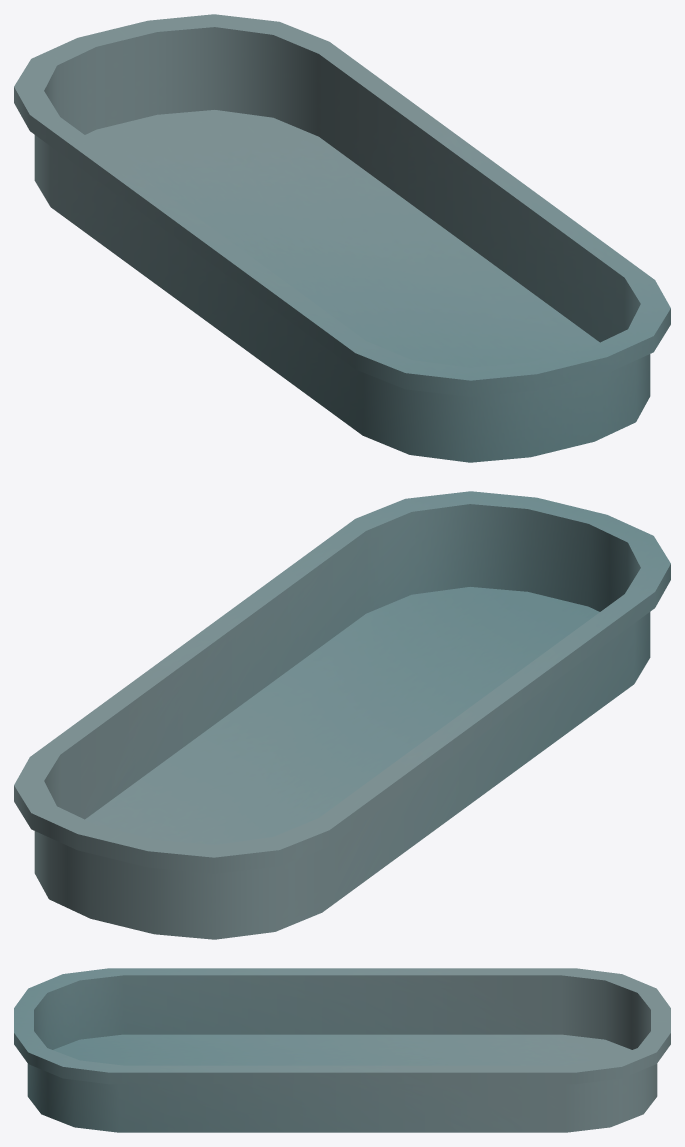
The model's file is SinkRack.fbx.
3 renders of one model, top to bottom at view 1: azimuth 30°, elevation 25°; view 2: azimuth 150°, elevation 25°; view 3: azimuth 270°, elevation 25°, orthographic. The views are drawn at different scales.
Visible parts, largest first — view 1: Kit_1_SinkRack; view 2: Kit_1_SinkRack; view 3: Kit_1_SinkRack.
Boxes of the visible parts, x1,y1,x2,y2 form: Kit_1_SinkRack: (14,14,670,462); Kit_1_SinkRack: (14,491,670,939); Kit_1_SinkRack: (14,968,670,1132).
Bounding box in the file's own units: 15.89 × 4.61 × 42.21.
